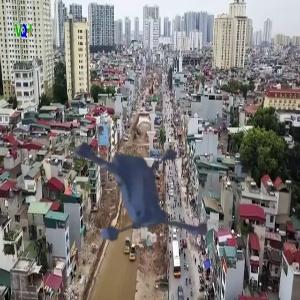drone: (32, 102, 203, 273)
